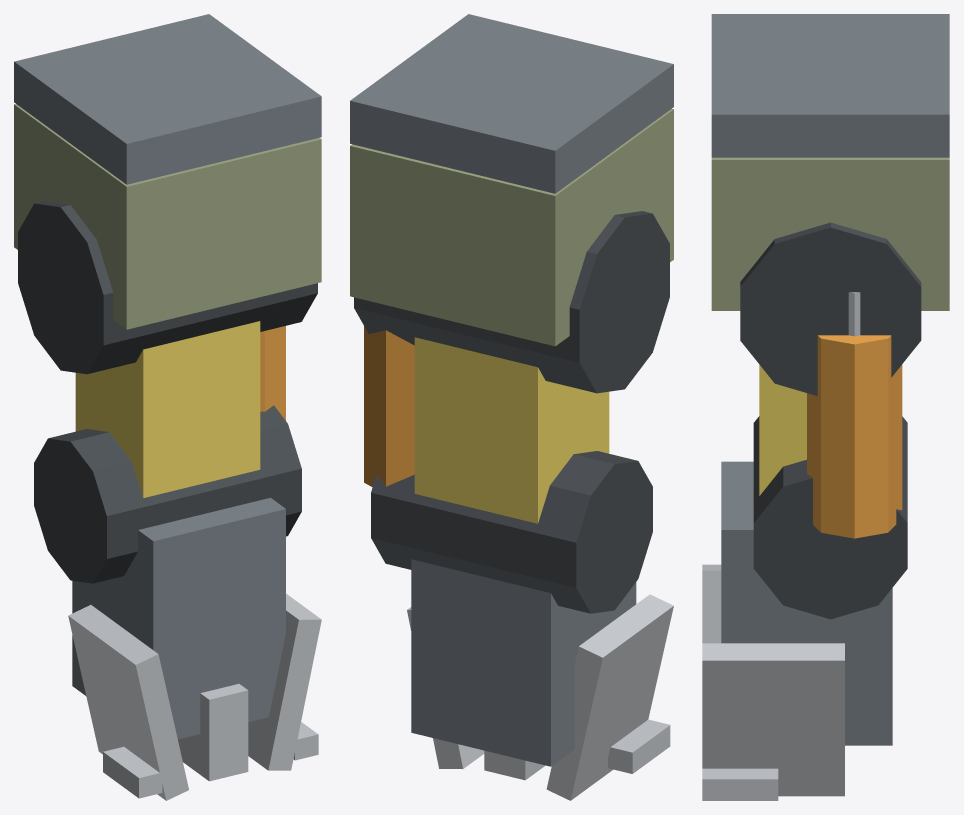
Rendered from mech-hangar-and-battle-frames-loader-arm-edf0fb9d__26842.glb.
3 views of the same model, side by side, from view 1: azimuth 30°, elevation 25°; view 2: azimuth 150°, elevation 25°; view 3: azimuth 270°, elevation 25° (orthographic). The views are drawn at different scales.
Visible parts, largest first — view 1: loader-arm, elbow (×3); view 2: loader-arm, elbow (×3); view 3: loader-arm, elbow (×3).
Boxes of the visible parts, x1,y1,x2,y2 form: loader-arm: (14, 14, 321, 497); elbow (×3): (34, 405, 321, 800); loader-arm: (350, 14, 673, 523); elbow (×3): (371, 451, 673, 800); loader-arm: (711, 14, 949, 538); elbow (×3): (702, 416, 907, 800).
Size of the model in its own units: 0.595 by 1.62 by 0.52.
